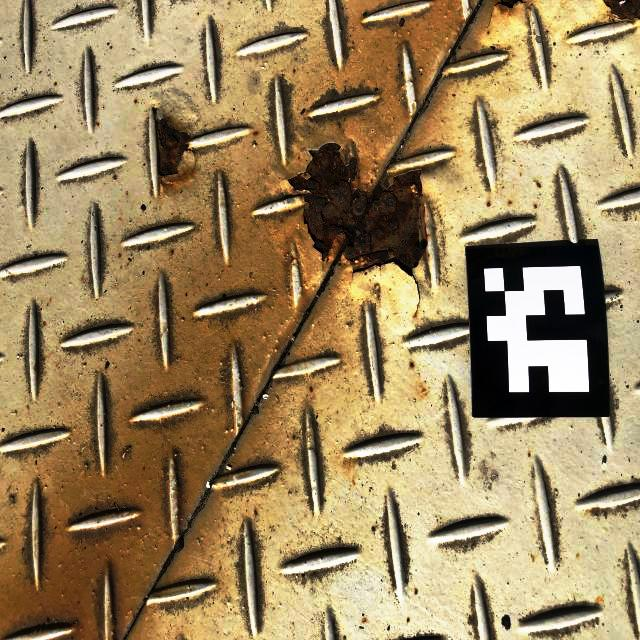Corrosion: (289, 142, 427, 272), (156, 117, 190, 175), (605, 0, 640, 19), (494, 0, 525, 7)
